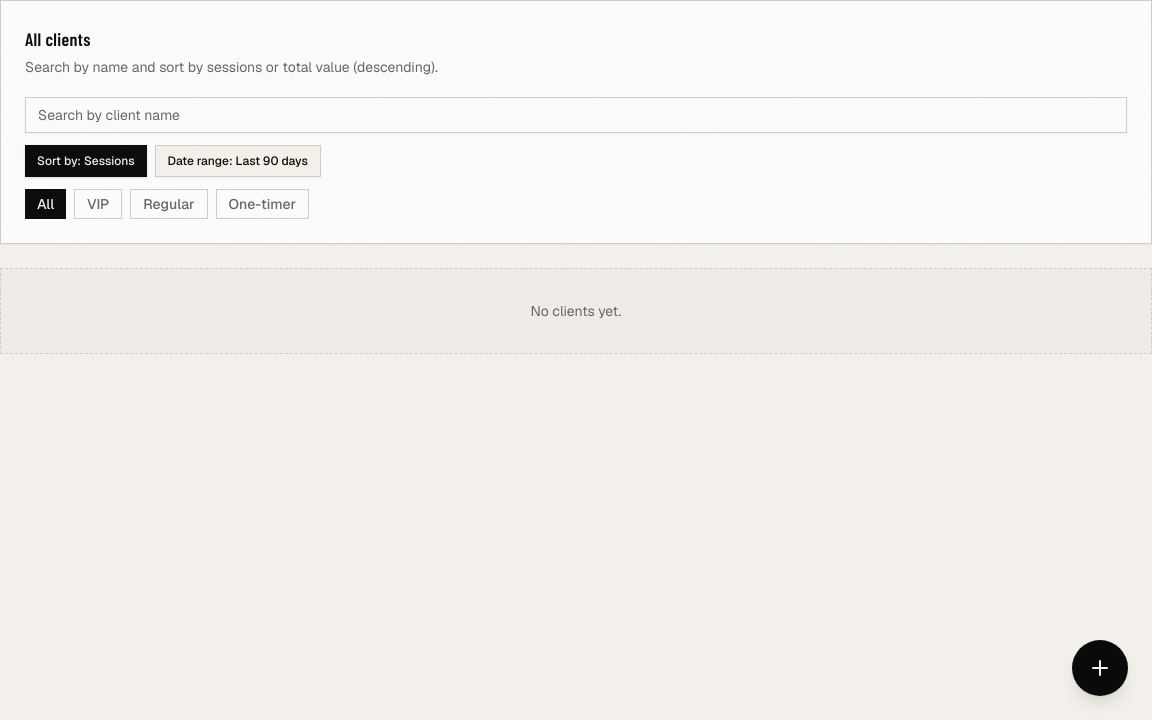
Scenario: ClientsView tier filter integration › shows tier-aware empty state for Regular
The image size is (1152, 720).
Click the button "Regular" at (169, 204), box 130,189 -> 208,219
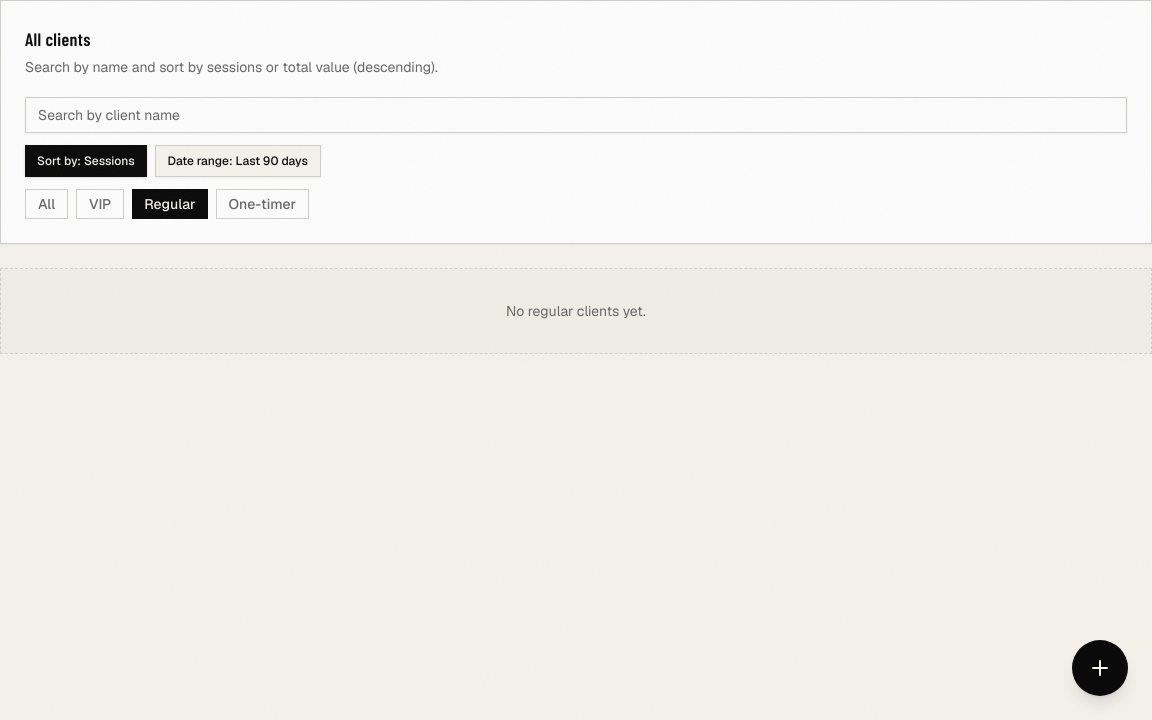
Now the text "No regular clients yet." is shown, box 0,268 -> 1151,354
